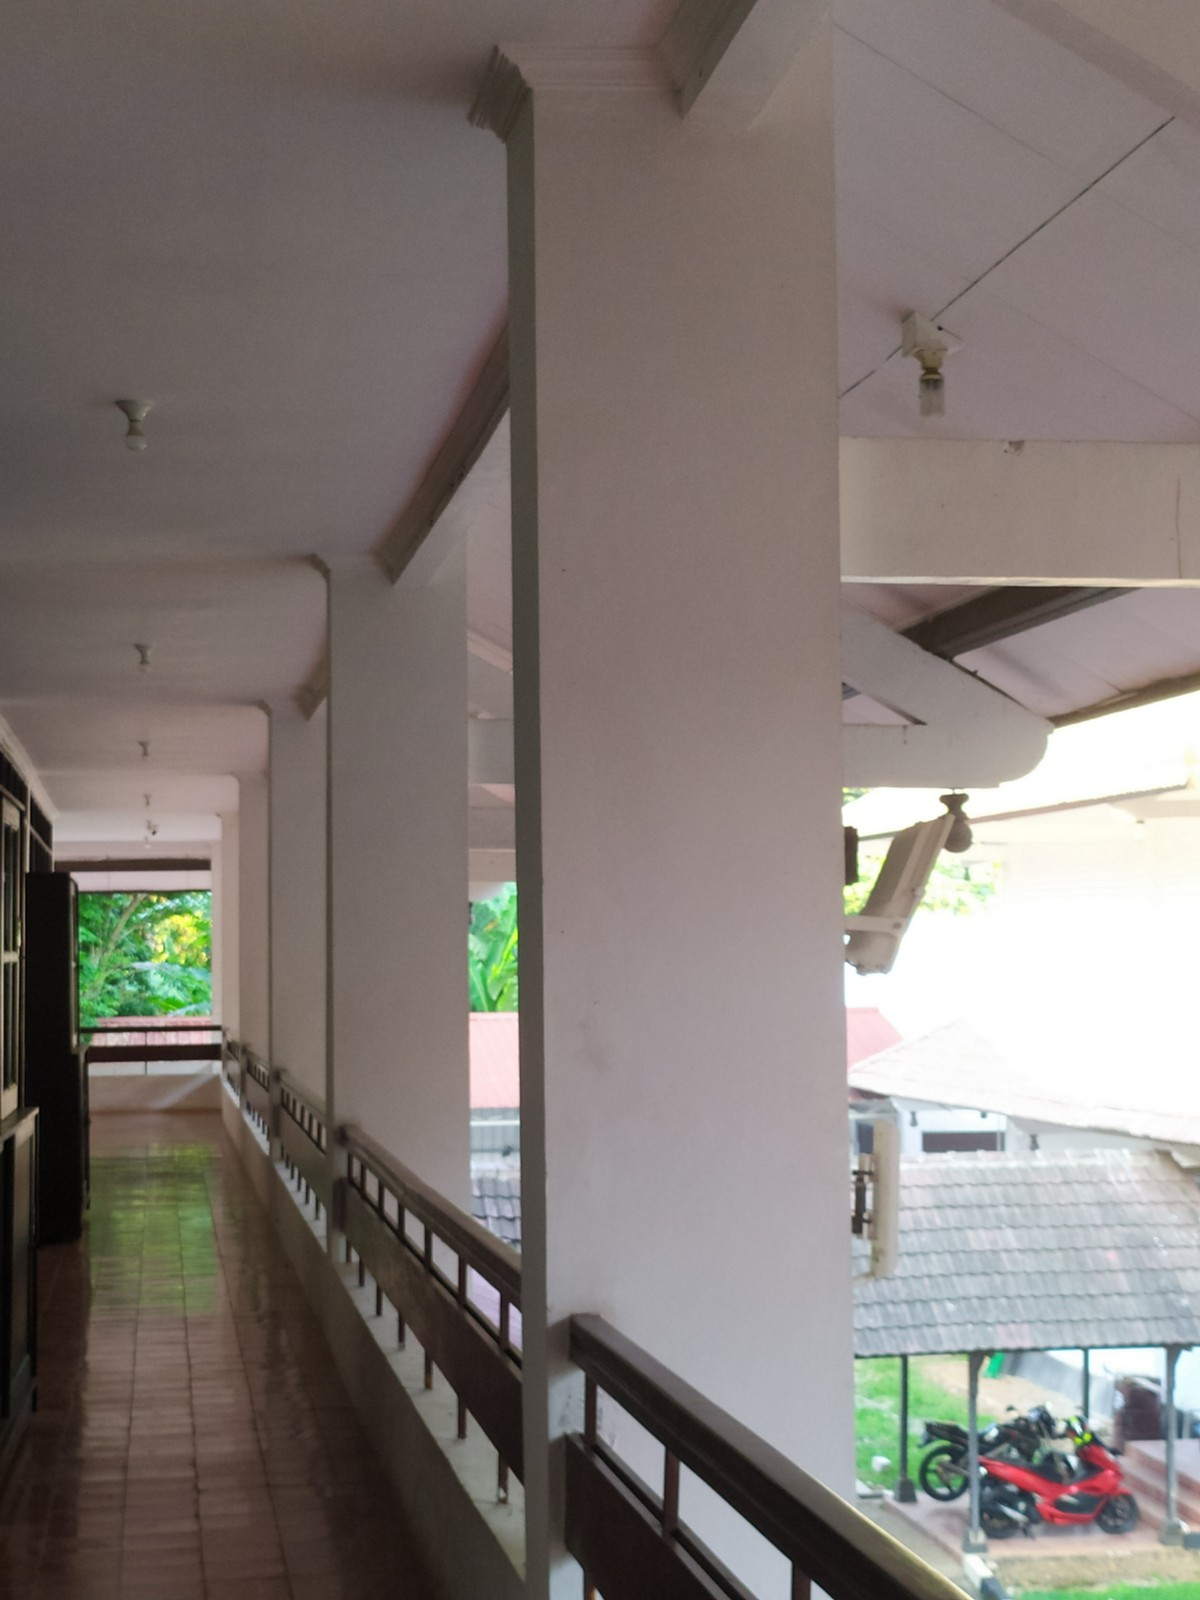concrete beam: (811, 425, 1197, 593)
concrete column: (489, 77, 875, 1532), (316, 563, 476, 1275), (261, 703, 326, 1174)
